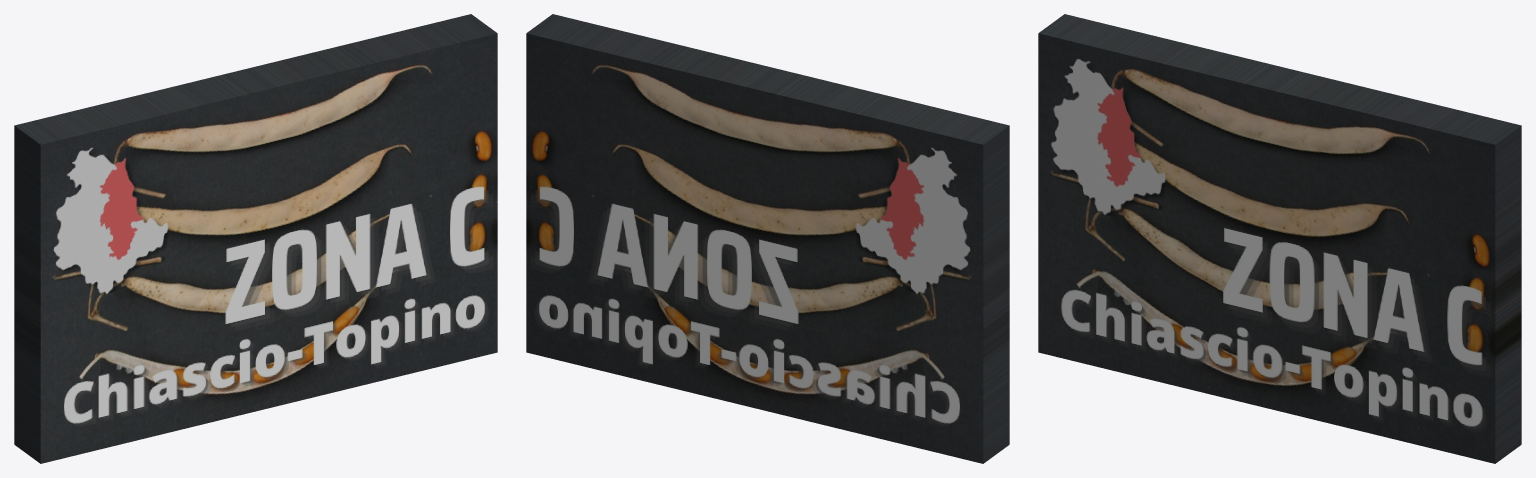
Rendered from Zona C.glb.
3 views of the same model, side by side, from view 1: azimuth 30°, elevation 25°; view 2: azimuth 150°, elevation 25°; view 3: azimuth 330°, elevation 25° (orthographic).
Bounding box in the file's own units: 0.2245 × 0.1499 × 0.0225.
Materials: 1 (1 with a texture image).
